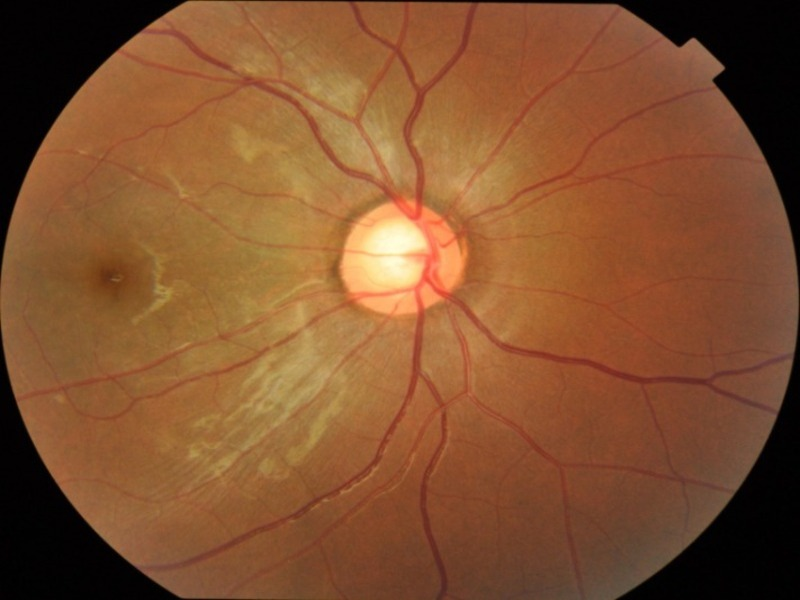Optic Cup: (366, 221, 426, 292)
Optic Disc: (338, 197, 470, 316)
